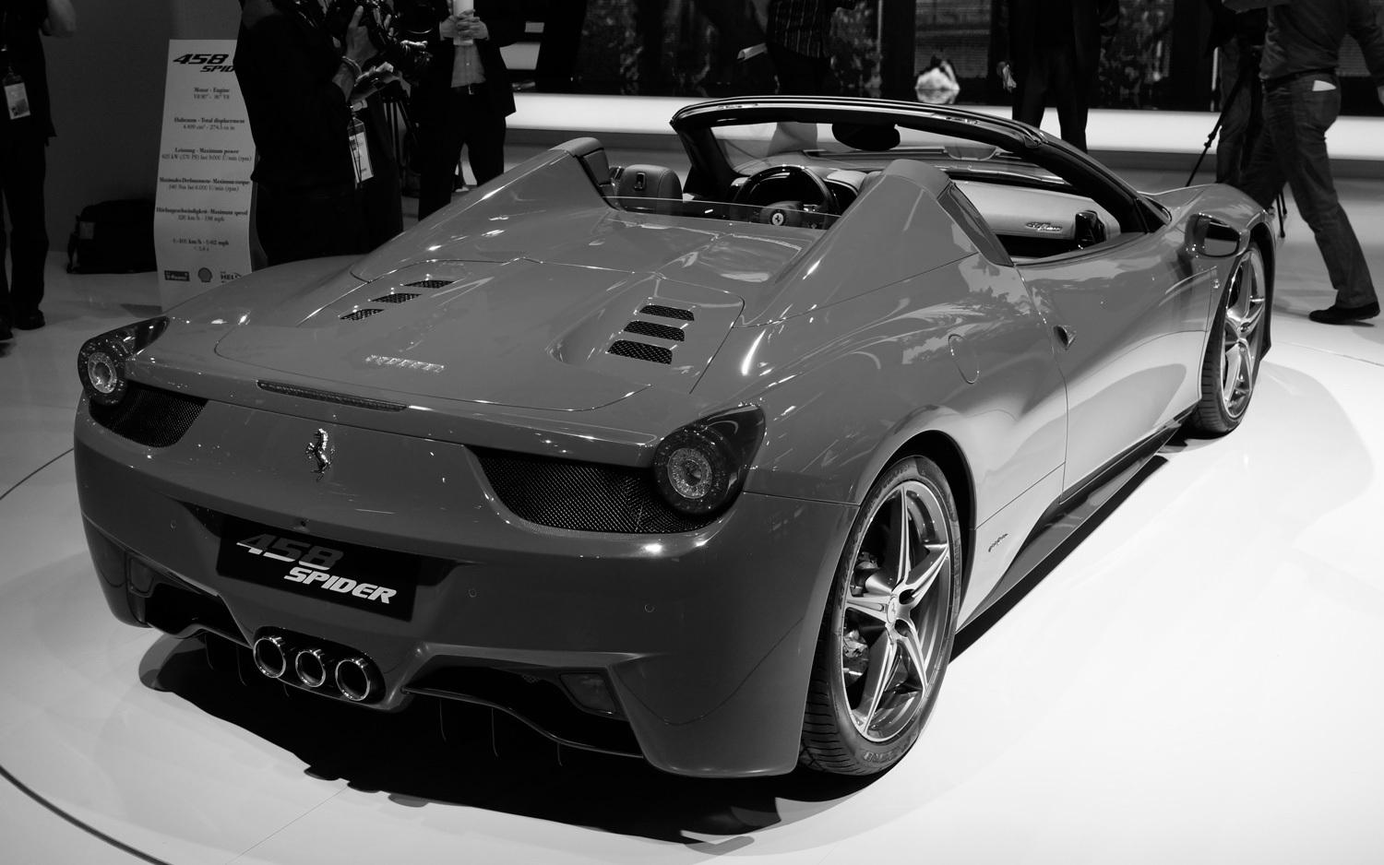car: (72, 96, 1267, 779)
